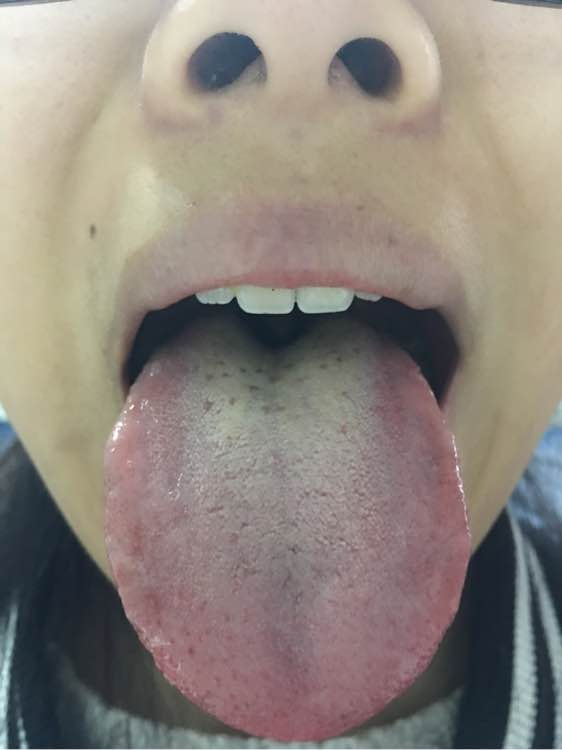hongdianshe: (184, 643, 196, 658), (246, 381, 260, 393)
huangtaishe: (104, 307, 471, 741)
shenquao: (213, 308, 344, 361)
